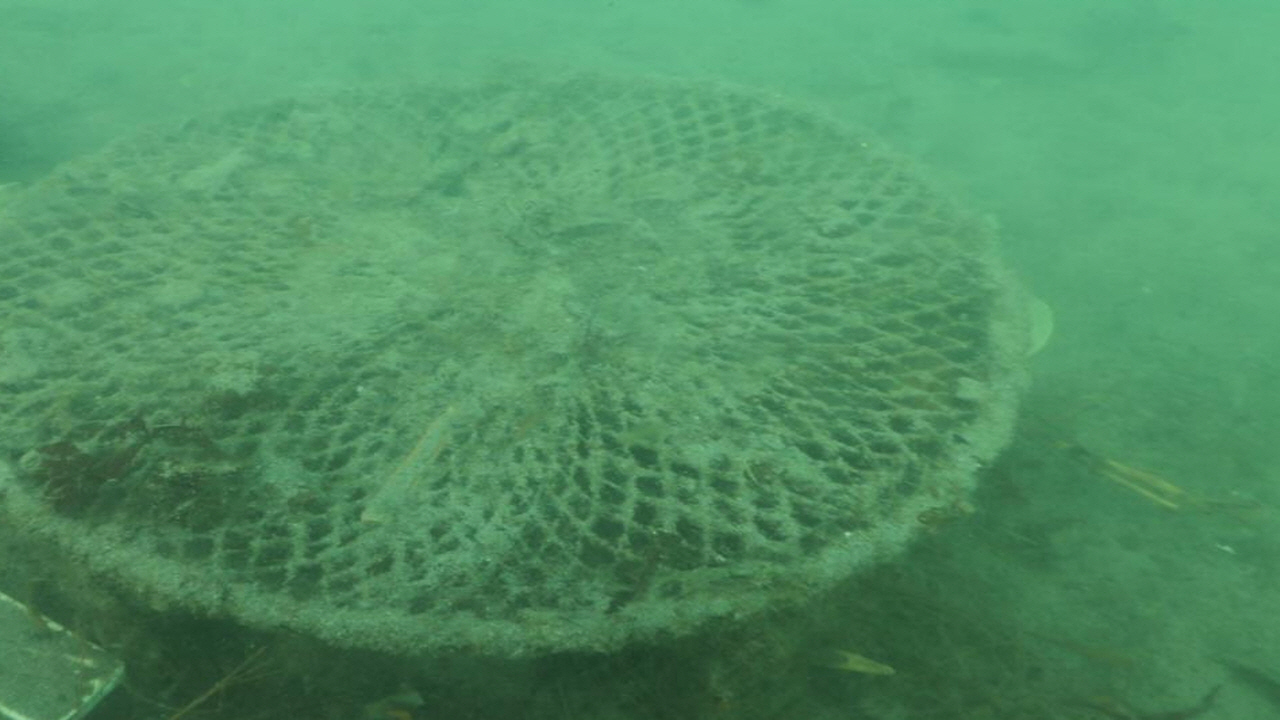circular fish trap: (0, 67, 1025, 650)
